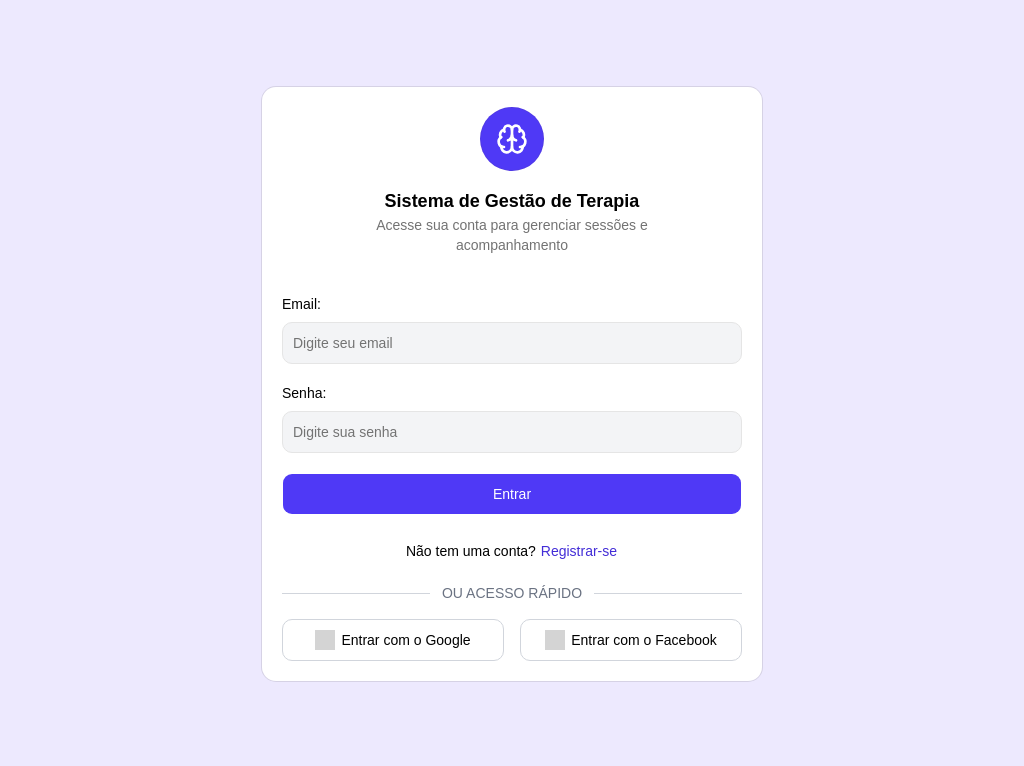
Teste de Navegação do Paciente › Deve navegar para a página de progresso terapêutico
Type "teste@teste.com" into the field named "email". click: (512, 343)
box: x1=282 y1=322 x2=742 y2=364
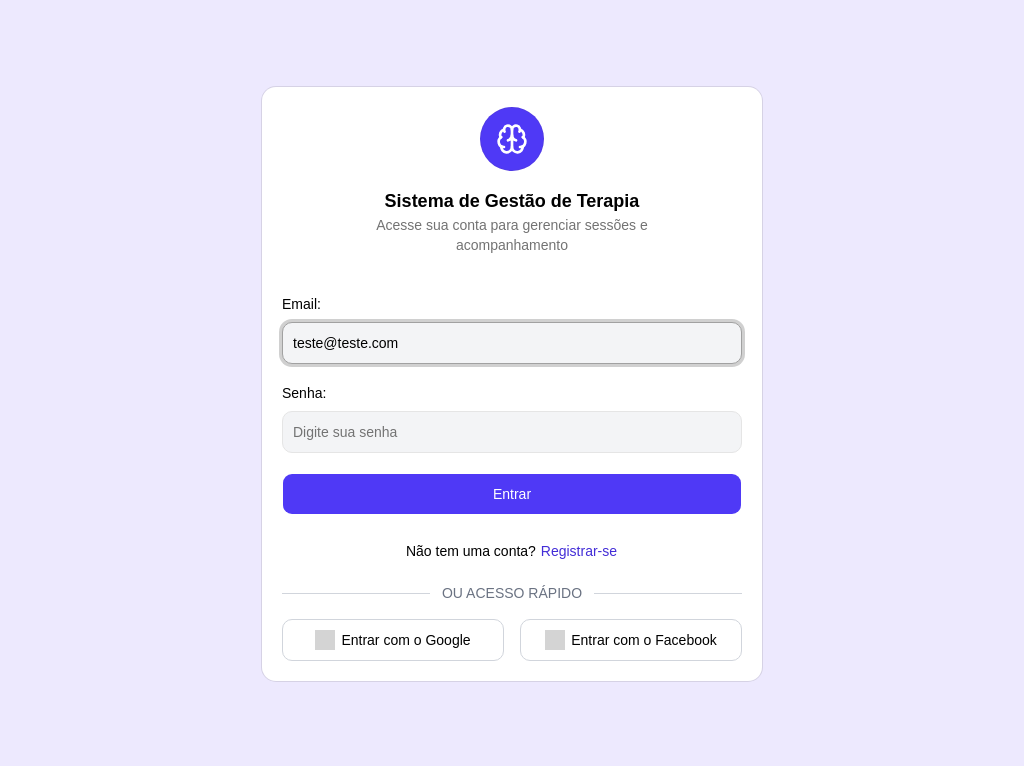
Type "1234" into the password field named "password". click: (512, 432)
box: x1=282 y1=411 x2=742 y2=453
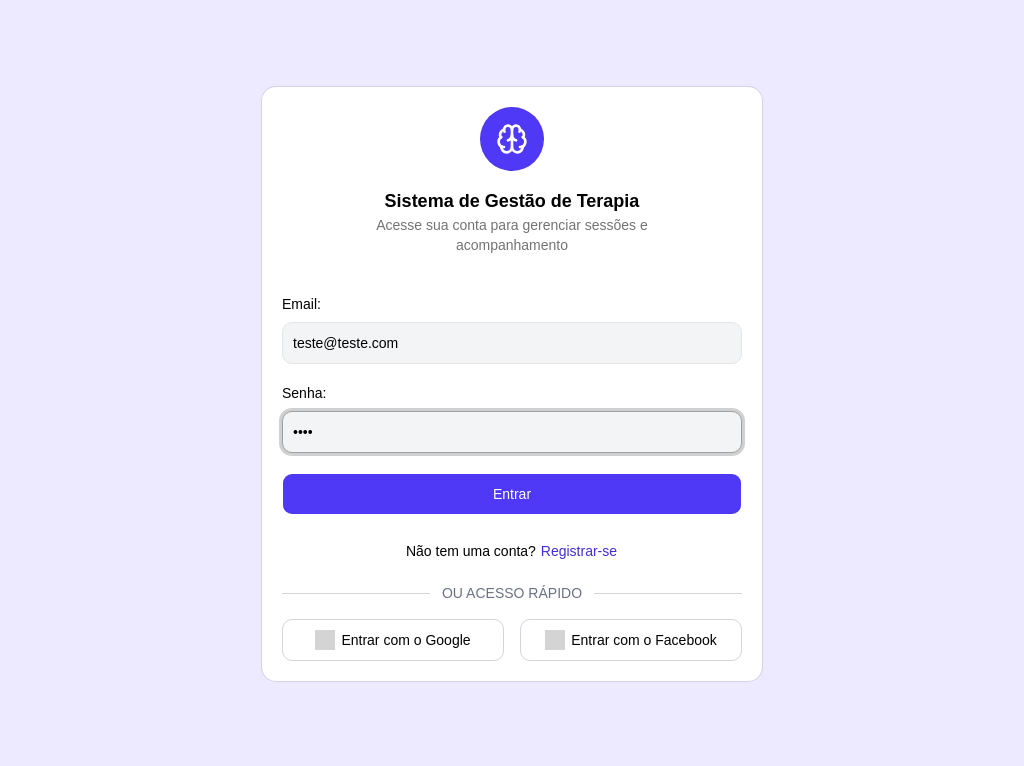
Click the submit button. click: (512, 494)
box: x1=282 y1=473 x2=742 y2=515
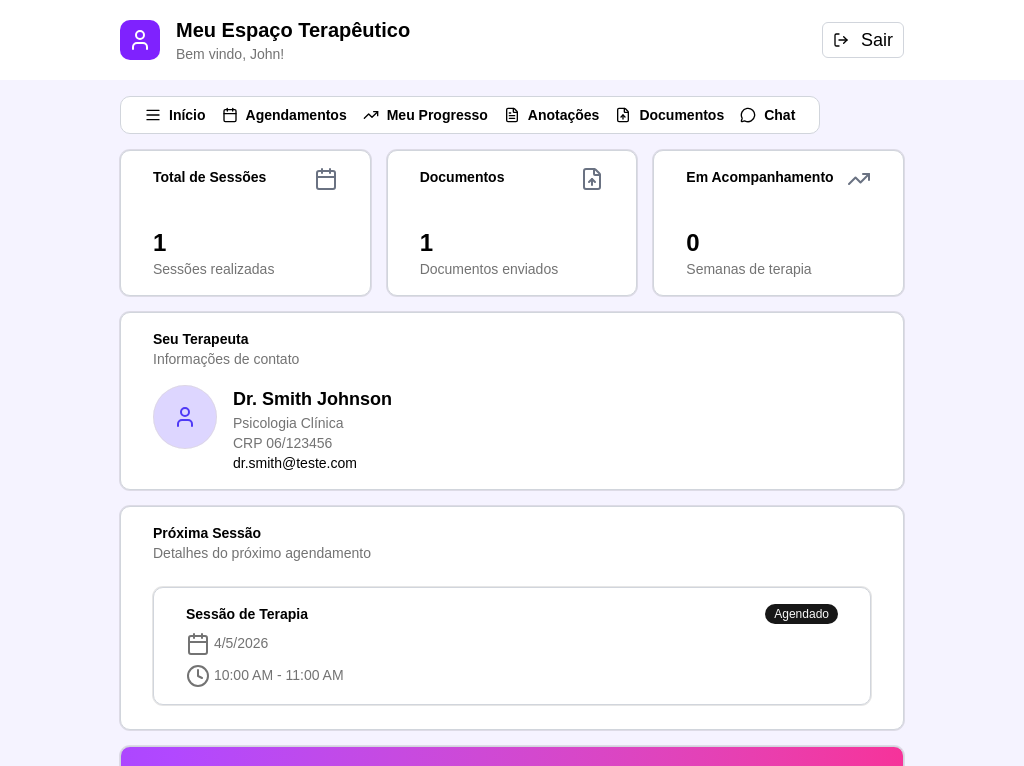
Click the link "Meu Progresso". click: (426, 115)
box: x1=363 y1=107 x2=488 y2=123
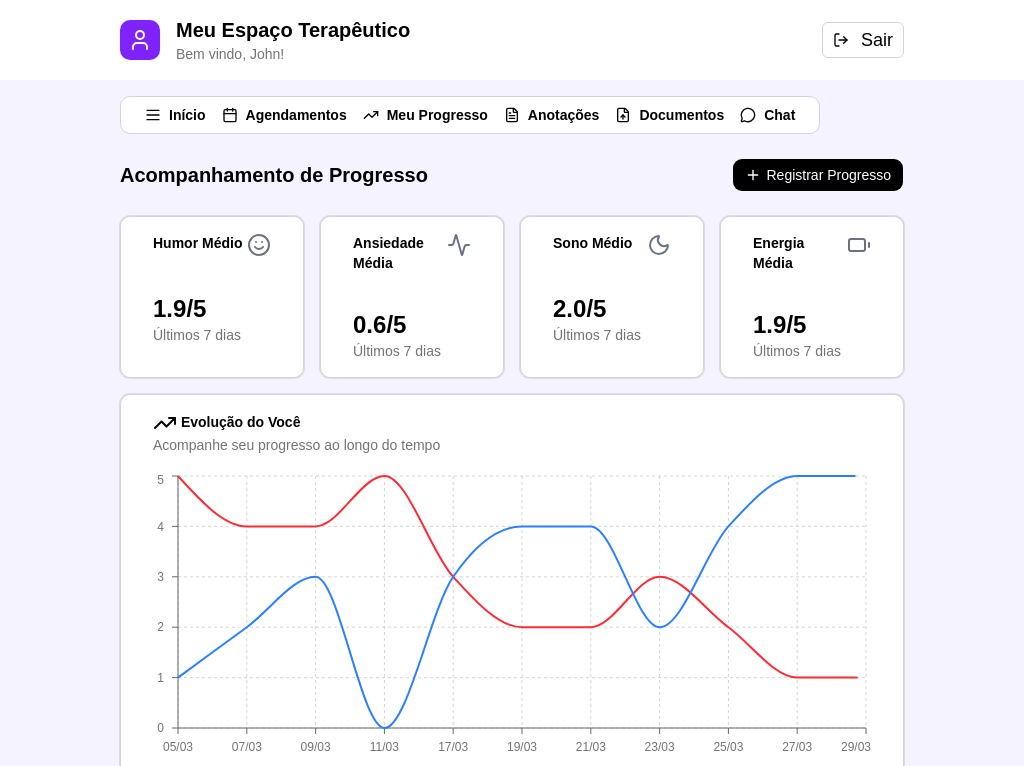
Expected: the heading "Acompanhamento de Progresso" is shown, x1=120 y1=161 x2=428 y2=189
